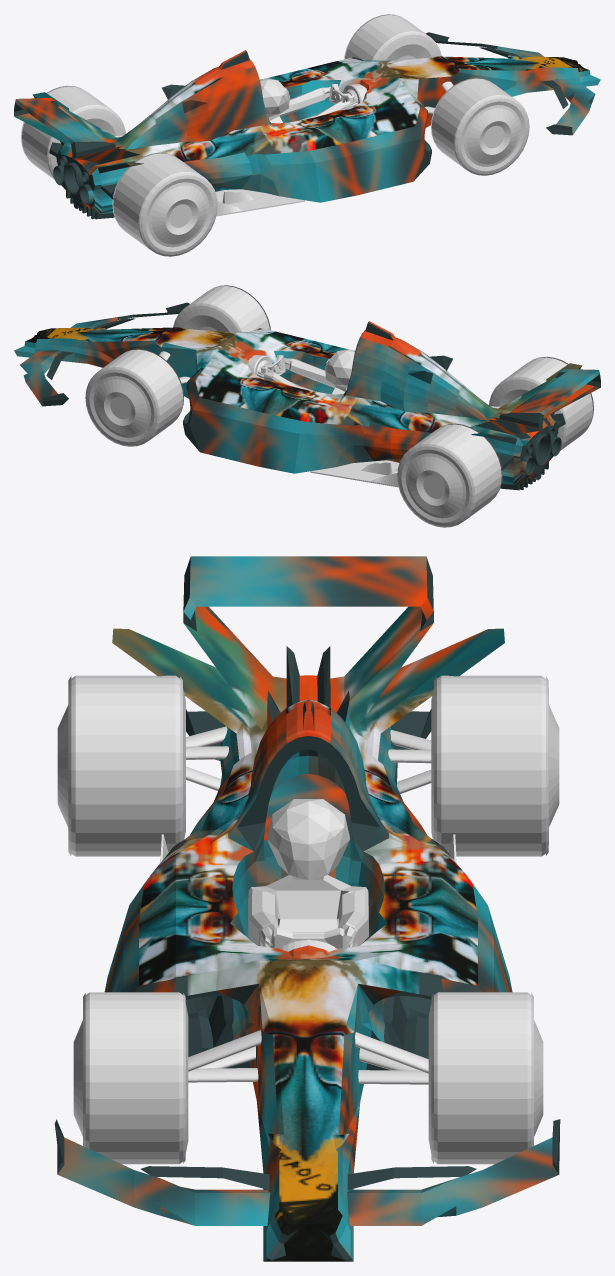
The model's file is PAOLOcar.fbx.
3 views of the same model, one above another, from view 1: azimuth 30°, elevation 25°; view 2: azimuth 150°, elevation 25°; view 3: azimuth 270°, elevation 25° (orthographic). The views are drawn at different scales.
Parts seen in each view (by area): view 1: carBody, rearRWheel, frontRWheel, frontLWheel, rearLWheel, carBody2, driver; view 2: carBody, rearLWheel, frontLWheel, frontRWheel, rearRWheel, driver, carBody2; view 3: carBody, rearRWheel, rearLWheel, frontRWheel, frontLWheel, driver, carBody2, steeringWheel.
Boxes of the visible parts, x1,y1,x2,y2 form: carBody: [14, 32, 600, 219]; rearRWheel: [112, 152, 217, 256]; frontRWheel: [431, 78, 529, 175]; frontLWheel: [344, 14, 441, 60]; rearLWheel: [21, 85, 125, 179]; carBody2: [215, 81, 453, 216]; driver: [260, 78, 357, 123]; carBody: [14, 302, 600, 490]; rearLWheel: [397, 423, 502, 527]; frontLWheel: [85, 349, 183, 446]; frontRWheel: [173, 285, 270, 332]; rearRWheel: [489, 356, 593, 450]; driver: [257, 349, 354, 394]; carBody2: [159, 351, 399, 487]; carBody: [54, 556, 560, 1261]; rearRWheel: [57, 675, 185, 856]; rearLWheel: [431, 675, 559, 856]; frontRWheel: [73, 992, 188, 1164]; frontLWheel: [428, 992, 543, 1164]; driver: [248, 799, 368, 947]; carBody2: [160, 726, 456, 1084]; steeringWheel: [270, 927, 346, 948].
Size of the model in its own units: 1117 by 255 by 446.
1 material, 1 textured.
